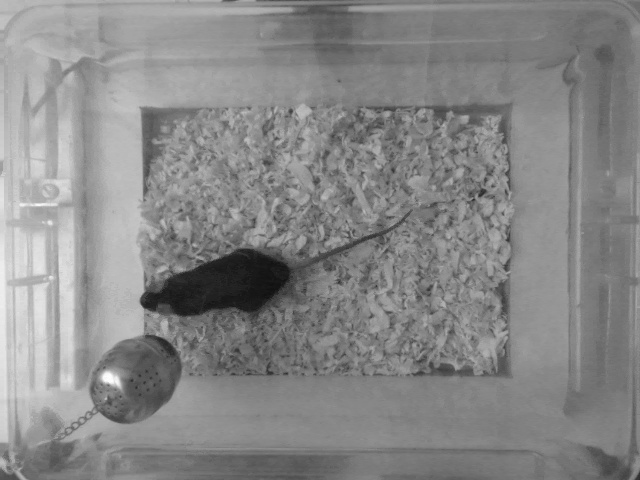mice: (138, 206, 421, 319)
